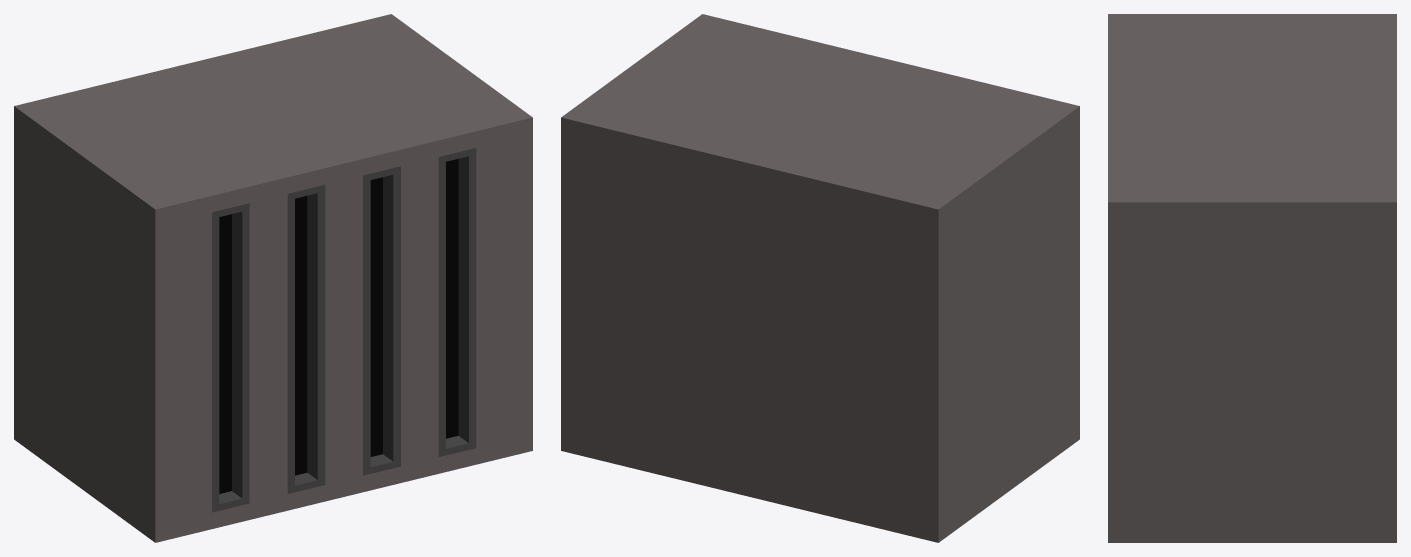
File: CleanFilter.fbx
The picture shows the model from 3 angles, left to right: view 1: azimuth 30°, elevation 25°; view 2: azimuth 150°, elevation 25°; view 3: azimuth 270°, elevation 25°; orthographic projection. The views are drawn at different scales.
Visible parts, largest first — view 1: CleanFilter; view 2: CleanFilter; view 3: CleanFilter.
Part boxes in pixels (left/top/right/bottom): CleanFilter: left=14, top=14, right=532, bottom=542; CleanFilter: left=561, top=14, right=1079, bottom=542; CleanFilter: left=1108, top=14, right=1396, bottom=542.
Bounding box in the file's own units: 240 × 203 × 156.
